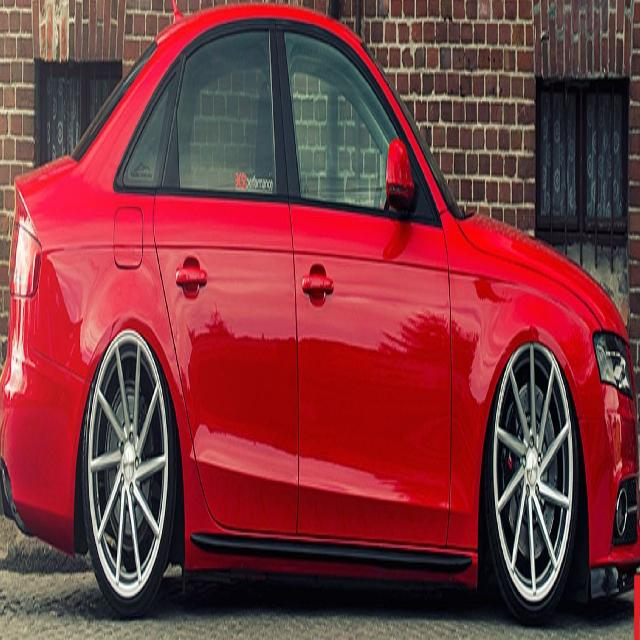red: (0, 3, 639, 616)
